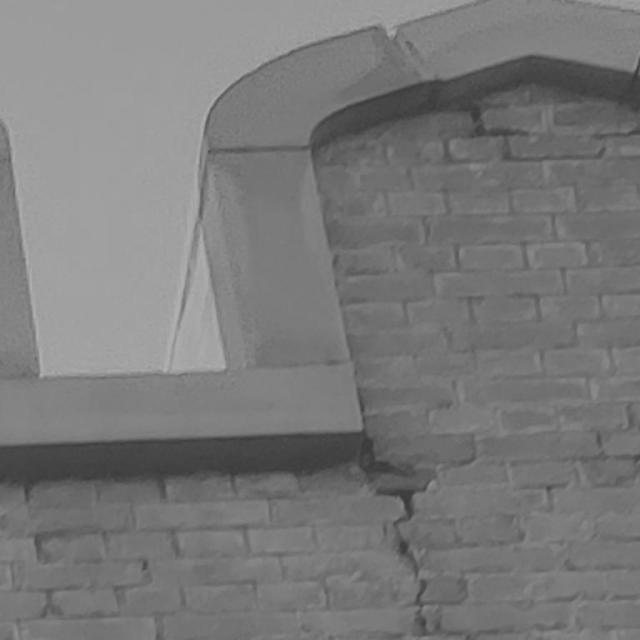crack: (356, 433, 428, 639), (462, 102, 526, 138)
